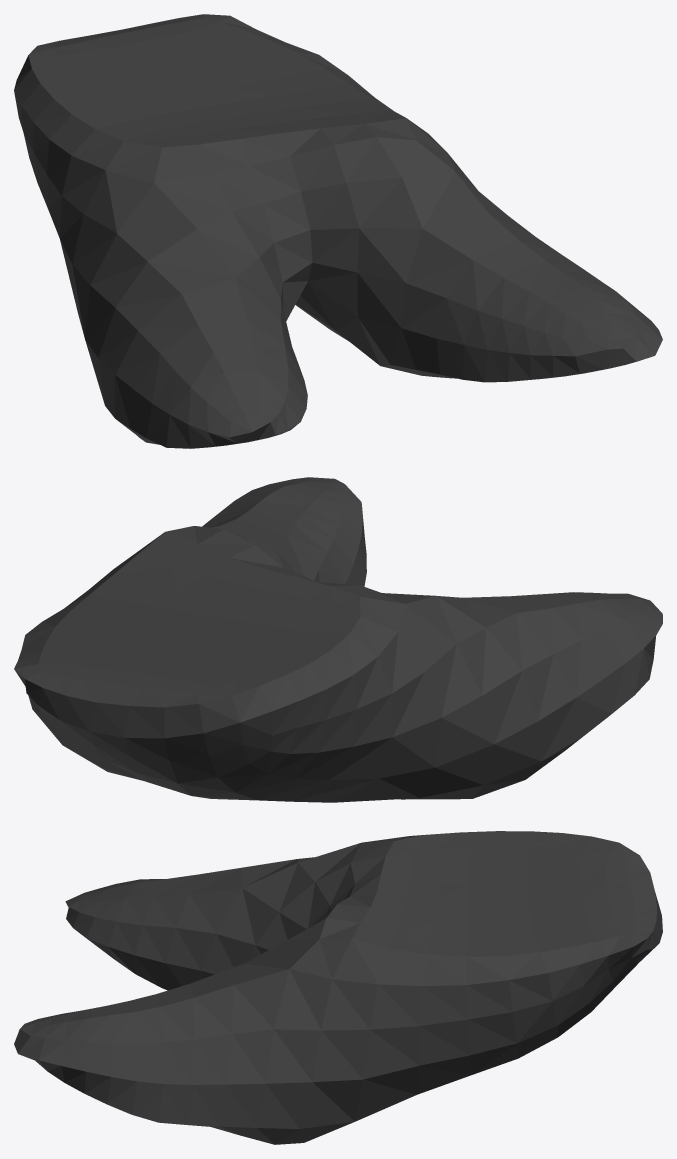
3 views of the same model, one above another, from view 1: azimuth 30°, elevation 25°; view 2: azimuth 150°, elevation 25°; view 3: azimuth 270°, elevation 25° (orthographic). The views are drawn at different scales.
Parts seen in each view (by area): view 1: CN2_low_CN2_low; view 2: CN2_low_CN2_low; view 3: CN2_low_CN2_low.
Part boxes in pixels (x1,y1,x2,y2): CN2_low_CN2_low: (14, 14, 662, 448); CN2_low_CN2_low: (14, 477, 662, 802); CN2_low_CN2_low: (14, 831, 662, 1144).
Bounding box in the file's own units: 4.66 × 2.21 × 6.47.
Materials: 1 (1 with a texture image).
